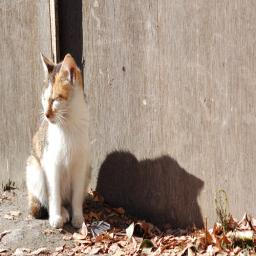catnose: (44, 106, 53, 120)
